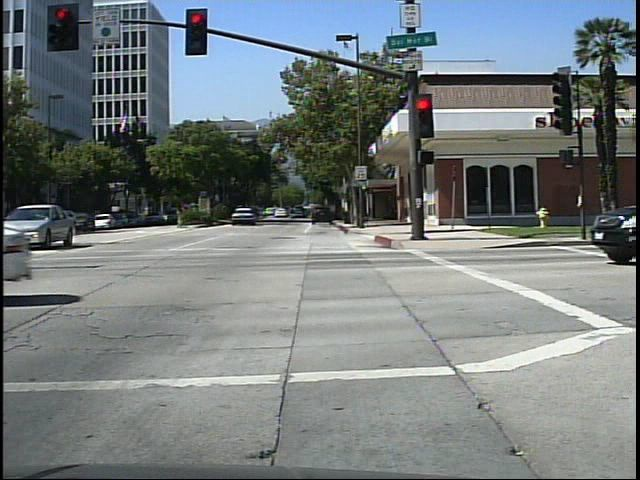person: (286, 203, 299, 221)
